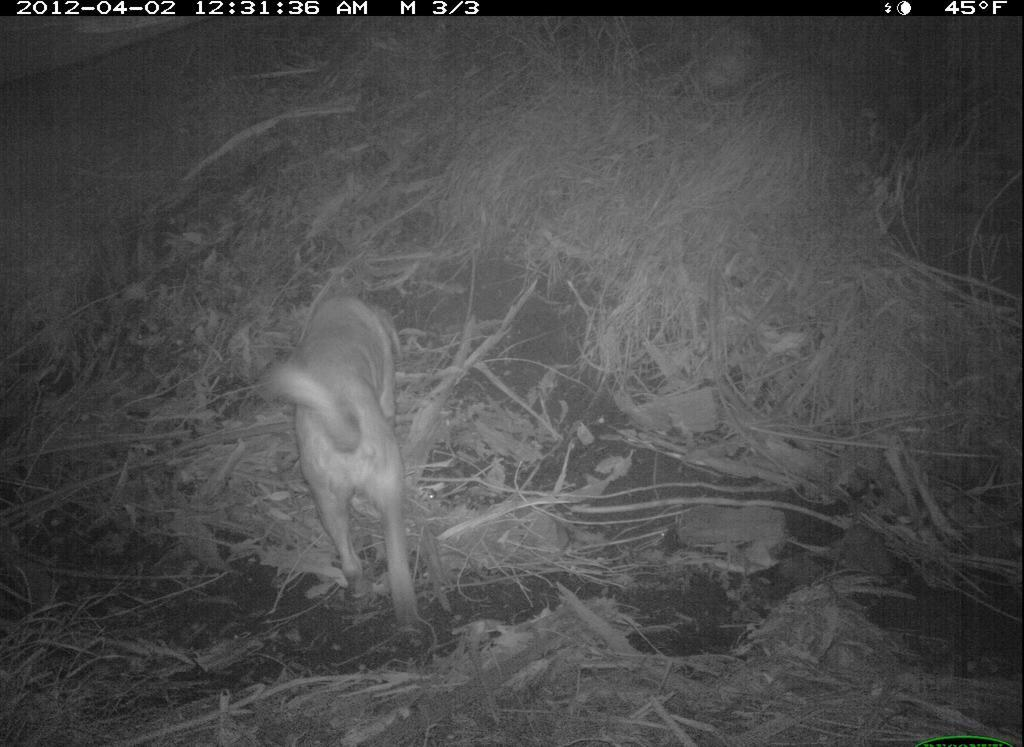dog: (254, 285, 433, 642)
